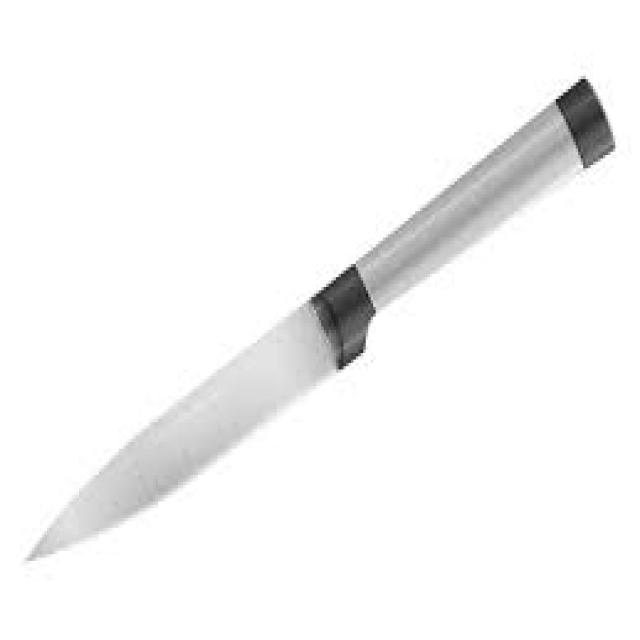Knife: (22, 72, 616, 560)
